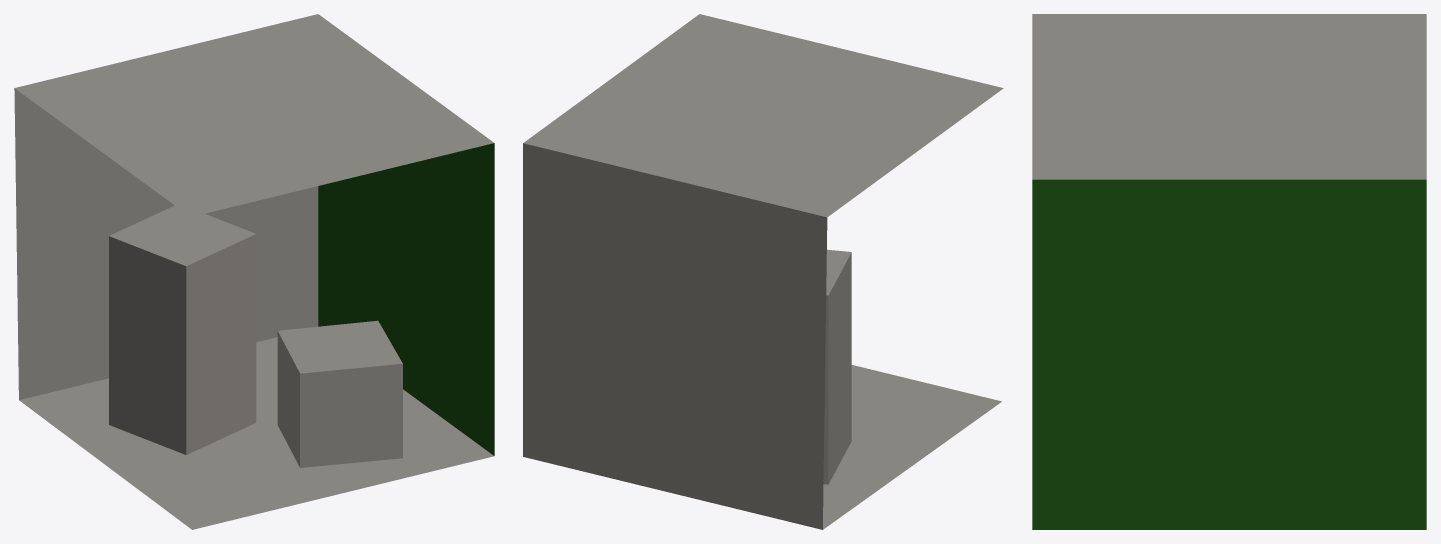
The model's file is cornellbox.obj.
3 views of the same model, side by side, from view 1: azimuth 30°, elevation 25°; view 2: azimuth 150°, elevation 25°; view 3: azimuth 270°, elevation 25° (orthographic). The views are drawn at different scales.
Visible parts, largest first — view 1: ceiling, rightWall, backWall, shortBox, floor, leftWall; view 2: backWall, ceiling, floor, shortBox; view 3: rightWall, ceiling.
Part boxes in pixels (x1,y1,x2,y2): ceiling: (15, 14, 493, 216); rightWall: (318, 143, 494, 455); backWall: (14, 88, 318, 399); shortBox: (109, 205, 256, 454); floor: (19, 337, 493, 529); leftWall: (277, 320, 402, 467); backWall: (523, 143, 827, 529); ceiling: (523, 14, 1003, 217); floor: (823, 365, 1001, 529); shortBox: (823, 249, 851, 484); rightWall: (1032, 179, 1426, 529); ceiling: (1032, 14, 1426, 179).
Bounding box in the file's own units: 2.02 × 1.99 × 2.03.
